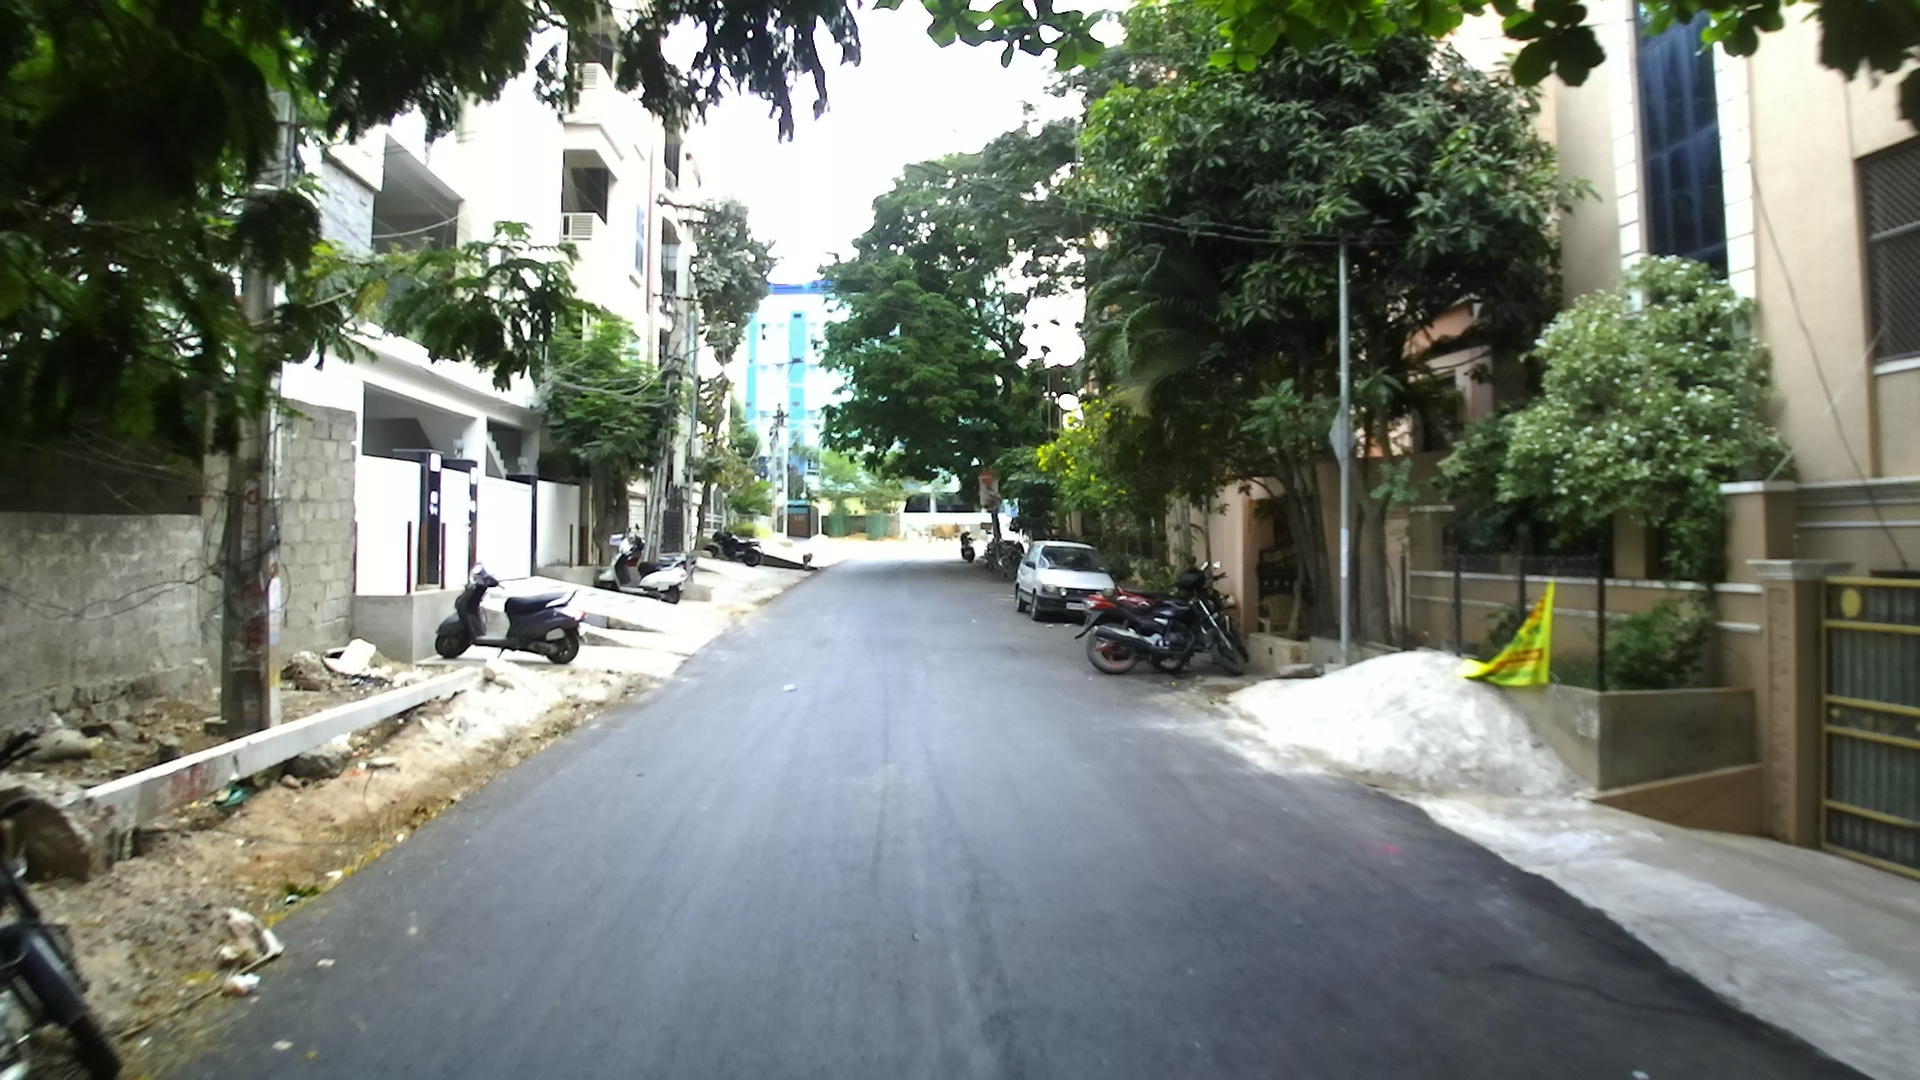vehicle: (1083, 580, 1247, 676), (1011, 541, 1117, 622)
